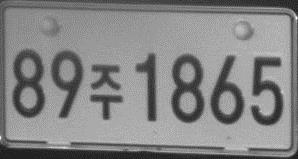1: (134, 50, 158, 124)
5: (248, 55, 284, 126)
6: (209, 52, 244, 124)
8: (170, 51, 204, 123), (11, 47, 44, 118)
9: (49, 48, 83, 118)
주: (88, 62, 124, 121)
